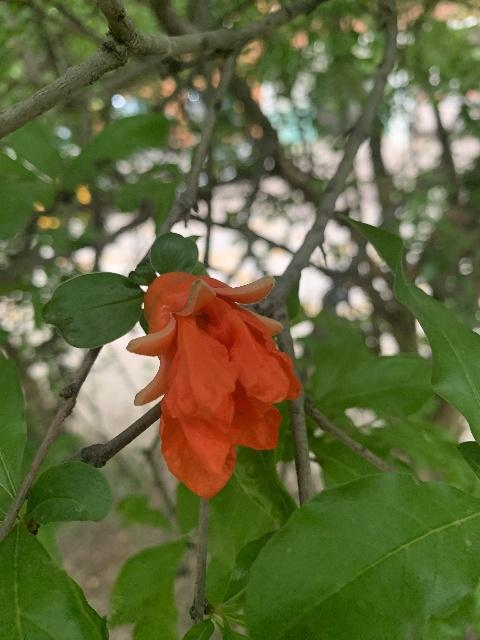flower: (124, 270, 302, 499)
